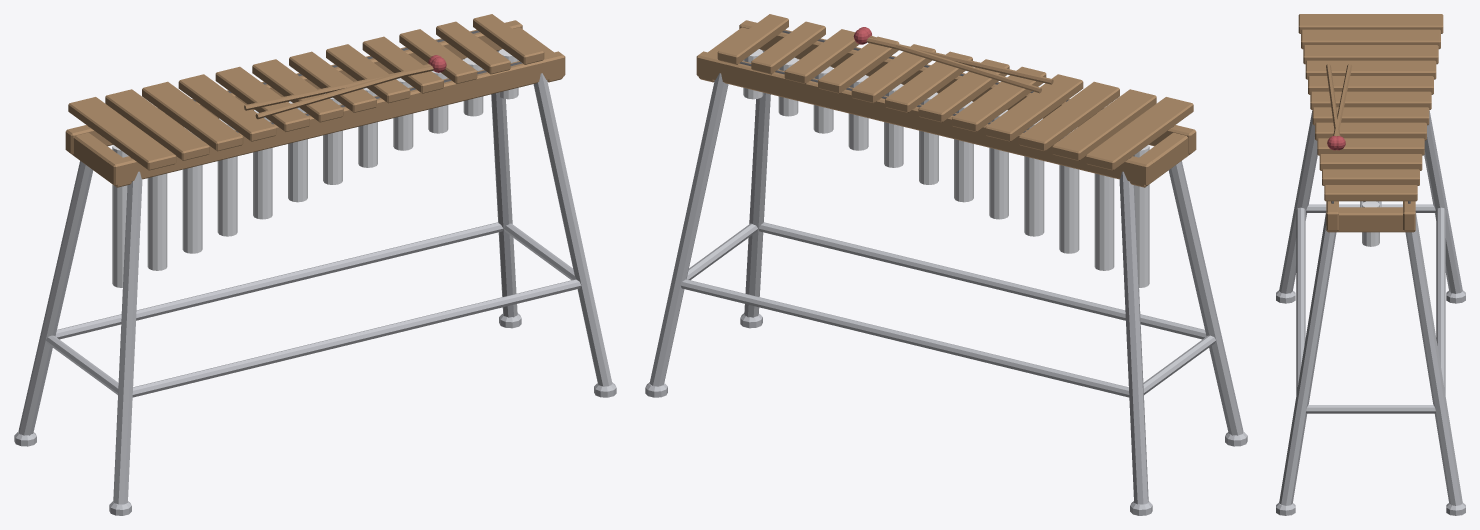
Rendered from orchestra-and-band-instruments-xylophone-5e998091__39297.glb.
3 renders of one model, left to right at view 1: azimuth 30°, elevation 25°; view 2: azimuth 150°, elevation 25°; view 3: azimuth 270°, elevation 25°, orthographic. The views are drawn at different scales.
Parts seen in each view (by area): view 1: xylophone; view 2: xylophone; view 3: xylophone.
Part boxes in pixels (box(x1,y1,x2,y2)): xylophone: box(14, 14, 616, 515); xylophone: box(645, 14, 1247, 515); xylophone: box(1276, 14, 1465, 515).
Size of the model in its own units: 1.23 by 0.8135 by 0.4457.
